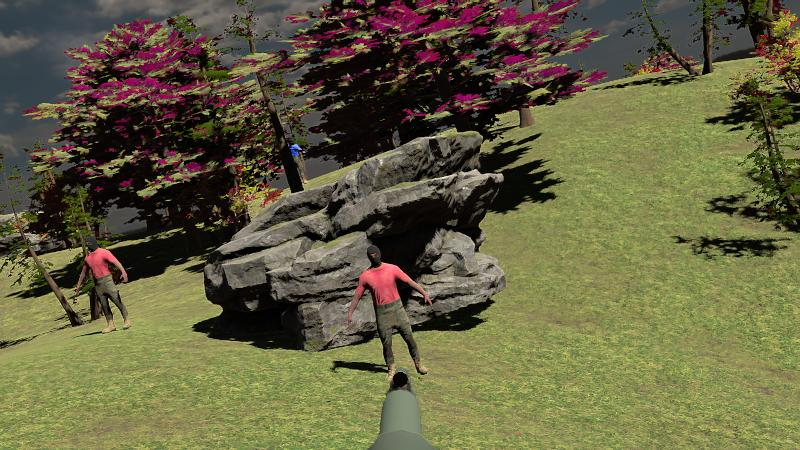Human: (348, 243, 433, 389), (77, 233, 132, 333), (78, 233, 131, 333)
